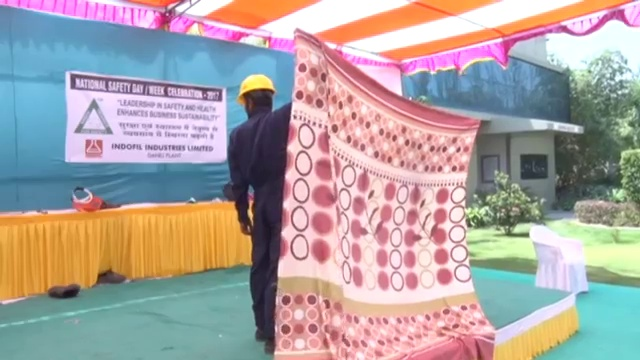helmet: (237, 74, 277, 104)
helmet_on: (235, 74, 278, 119)
person: (223, 73, 292, 350)
